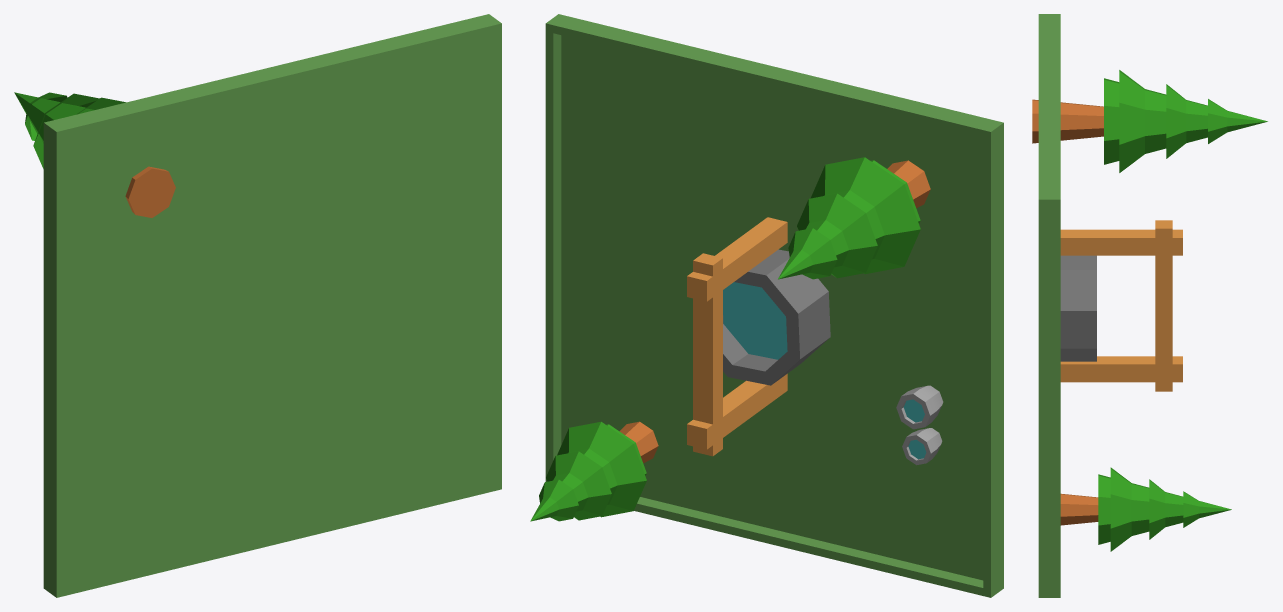
File: well.fbx
3 renders of one model, left to right at view 1: azimuth 30°, elevation 25°; view 2: azimuth 150°, elevation 25°; view 3: azimuth 270°, elevation 25°, orthographic. The views are drawn at different scales.
Parts seen in each view (by area): view 1: Cube; view 2: Cube; view 3: Cube.
Boxes of the visible parts, <box> form: Cube: <box>14,14,501,597</box>; Cube: <box>530,14,1003,597</box>; Cube: <box>1032,14,1267,597</box>.
Size of the model in its own units: 288 by 288 by 155.
